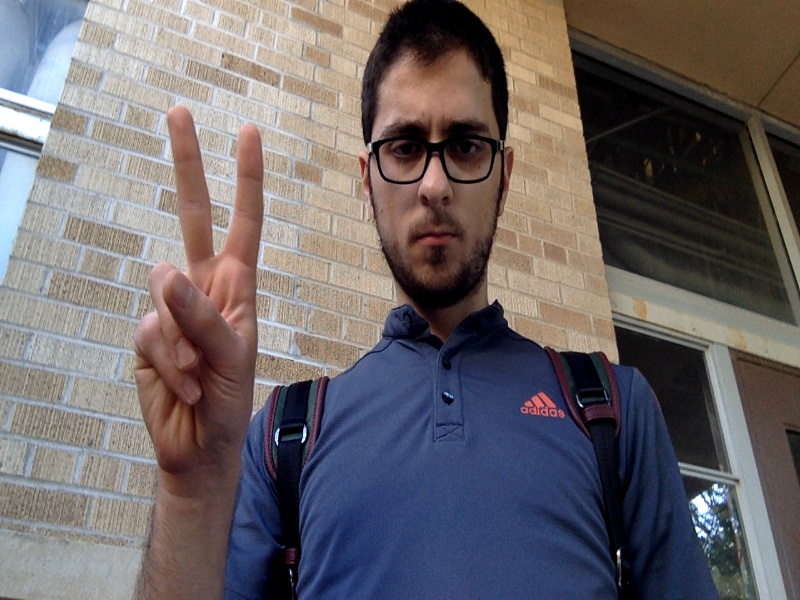2-hand: (137, 106, 261, 490)
